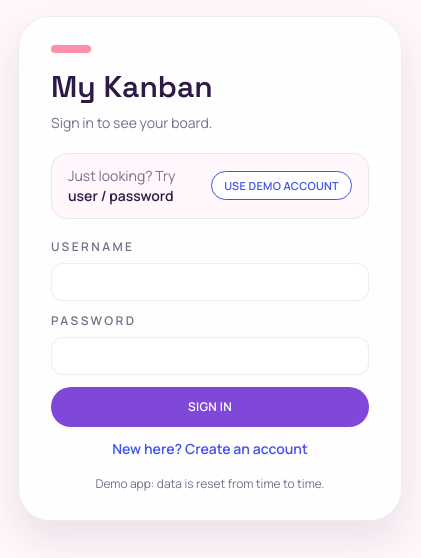
it: AuthForm › fills in the demo account, only when signing in
The image size is (421, 558).
Click the button "Use demo account": (282, 185) [211,171,352,200]
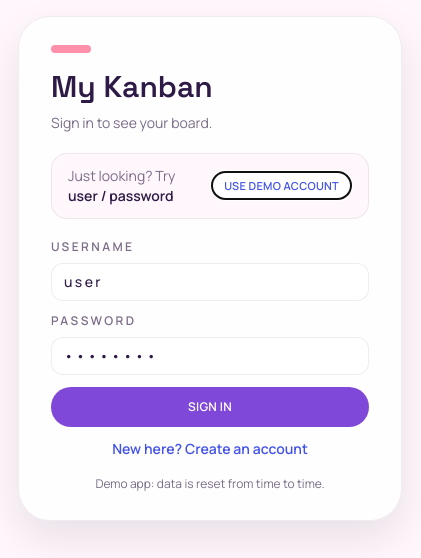
Now the field labelled "Username" holds "user", box [51,262,369,300]
Now the password field labelled "Password" holds "password", box [51,336,369,374]
Click the button "New here? Create an account": (210, 448) [51,438,369,458]
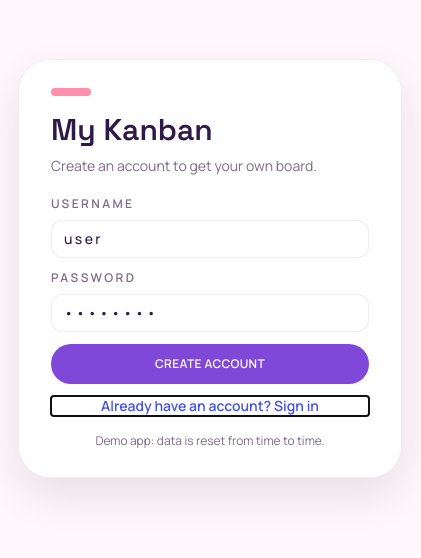
Now the button "Use demo account" is gone
